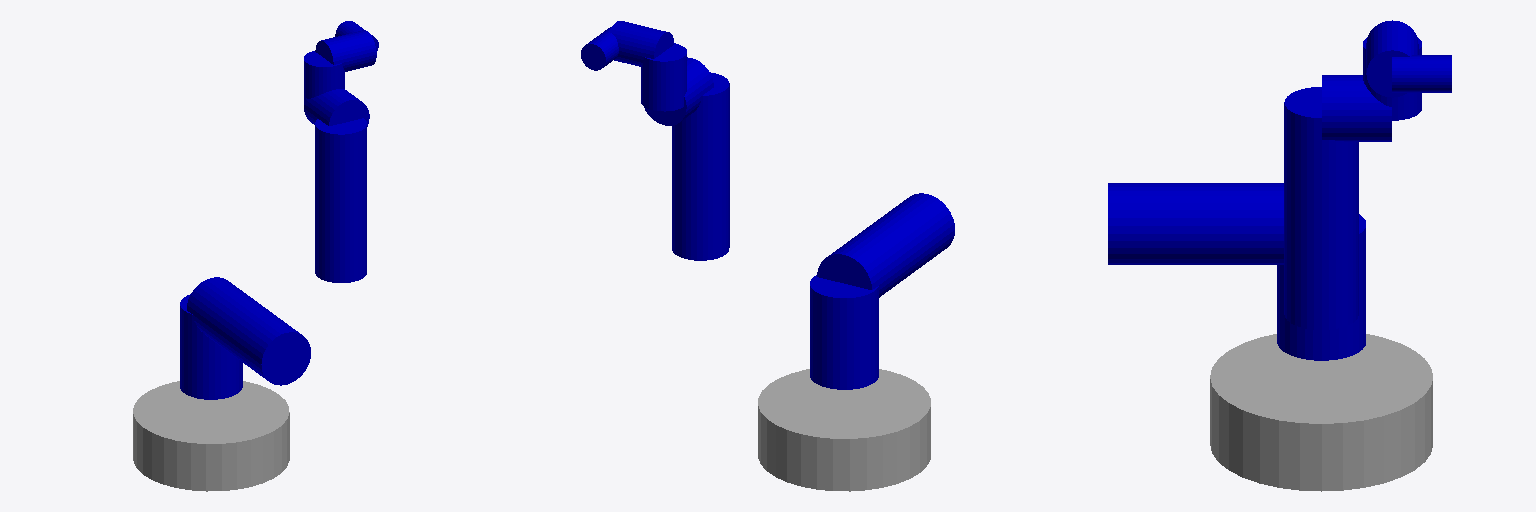
URDF robot description (left_arm_robot):
<?xml version="1.0"?>
<robot name="left_arm_robot">

  <!-- Material definitions -->
  <material name="blue">
    <color rgba="0 0 0.8 1"/>
  </material>
  <material name="gray">
    <color rgba="0.7 0.7 0.7 1"/>
  </material>

  <!-- Base Link -->
  <link name="left_base_link">
    <visual>
      <geometry>
        <cylinder length="0.1" radius="0.15"/>
      </geometry>
      <material name="gray"/>
    </visual>
    <collision>
      <geometry>
        <cylinder length="0.1" radius="0.15"/>
      </geometry>
    </collision>
    <inertial>
      <origin xyz="0 0 0" rpy="0 0 0"/>
      <mass value="5.0"/>
      <inertia ixx="0.1" ixy="0" ixz="0" iyy="0.1" iyz="0" izz="0.1"/>
    </inertial>
  </link>

  <!-- Joint 1 -->
  <joint name="left_joint1" type="revolute">
    <parent link="left_base_link"/>
    <child link="left_link1"/>
    <origin xyz="0 0 0.1017" rpy="0 0 0"/>
    <axis xyz="0 0 1"/>
    <limit lower="-2.96706" upper="2.96706" effort="180" velocity="4.0407"/>
  </joint>

  <link name="left_link1">
    <visual>
      <geometry>
        <cylinder length="0.1745" radius="0.06"/>
      </geometry>
      <material name="blue"/>
      <origin xyz="0 0 0.08725" rpy="0 0 0"/>
    </visual>
    <collision>
      <geometry>
        <cylinder length="0.1745" radius="0.06"/>
      </geometry>
      <origin xyz="0 0 0.08725" rpy="0 0 0"/>
    </collision>
    <inertial>
      <origin xyz="0 -0.002084 -0.030418" rpy="0 0 0"/>
      <mass value="4.0407"/>
      <inertia ixx="0.104651" ixy="0" ixz="0" iyy="0.104651" iyz="0" izz="0.104651"/>
    </inertial>
  </link>

  <!-- Joint 2 -->
  <joint name="left_joint2" type="revolute">
    <parent link="left_link1"/>
    <child link="left_link2"/>
    <origin xyz="0 0 0.1745" rpy="1.5708 0 0"/>
    <axis xyz="0 0 1"/>
    <limit lower="-2.0944" upper="2.0944" effort="180" velocity="2.77241"/>
  </joint>

  <link name="left_link2">
    <visual>
      <geometry>
        <cylinder length="0.287" radius="0.055"/>
      </geometry>
      <material name="blue"/>
      <origin xyz="0 0 0.1435" rpy="0 0 0"/>
    </visual>
    <collision>
      <geometry>
        <cylinder length="0.287" radius="0.055"/>
      </geometry>
      <origin xyz="0 0 0.1435" rpy="0 0 0"/>
    </collision>
    <inertial>
      <origin xyz="-0.008095 0.151407 -0.045915" rpy="0 0 0"/>
      <mass value="2.77241"/>
      <inertia ixx="0.027234" ixy="-0.002166" ixz="0.0024" iyy="0.036772" iyz="0.011008" izz="0.052656"/>
    </inertial>
  </link>

  <!-- Joint 3 -->
  <joint name="left_joint3" type="revolute">
    <parent link="left_link2"/>
    <child link="left_link3"/>
    <origin xyz="0.287 0 0" rpy="-1.5708 0 0"/>
    <axis xyz="0 0 1"/>
    <limit lower="-2.96706" upper="2.96706" effort="180" velocity="3.6913"/>
  </joint>

  <link name="left_link3">
    <visual>
      <geometry>
        <cylinder length="0.314" radius="0.05"/>
      </geometry>
      <material name="blue"/>
      <origin xyz="0 0 0.157" rpy="0 0 0"/>
    </visual>
    <collision>
      <geometry>
        <cylinder length="0.314" radius="0.05"/>
      </geometry>
      <origin xyz="0 0 0.157" rpy="0 0 0"/>
    </collision>
    <inertial>
      <origin xyz="0.007463 -0.009788 -0.208974" rpy="0 0 0"/>
      <mass value="3.6913"/>
      <inertia ixx="0" ixy="0" ixz="0" iyy="0" iyz="0" izz="0"/>
    </inertial>
  </link>

  <!-- Joint 4 -->
  <joint name="left_joint4" type="revolute">
    <parent link="left_link3"/>
    <child link="left_link4"/>
    <origin xyz="0.018 0 0.314" rpy="1.5708 0 3.14159"/>
    <axis xyz="0 0 1"/>
    <limit lower="-2.44346" upper="1.36136" effort="180" velocity="3.08149"/>
  </joint>

  <link name="left_link4">
    <visual>
      <geometry>
        <cylinder length="0.095" radius="0.045"/>
      </geometry>
      <material name="blue"/>
      <origin xyz="0 0 0.0475" rpy="0 0 0"/>
    </visual>
    <collision>
      <geometry>
        <cylinder length="0.095" radius="0.045"/>
      </geometry>
      <origin xyz="0 0 0.0475" rpy="0 0 0"/>
    </collision>
    <inertial>
      <origin xyz="0.025708 -0.185959 -0.006434" rpy="0 0 0"/>
      <mass value="3.08149"/>
      <inertia ixx="0" ixy="0" ixz="0" iyy="0" iyz="0" izz="0"/>
    </inertial>
  </link>

  <!-- Joint 5 -->
  <joint name="left_joint5" type="revolute">
    <parent link="left_link4"/>
    <child link="left_link5"/>
    <origin xyz="0 0 0.095" rpy="1.5708 0 3.14159"/>
    <axis xyz="0 0 1"/>
    <limit lower="-2.96706" upper="2.96706" effort="180" velocity="0.722775"/>
  </joint>

  <link name="left_link5">
    <visual>
      <geometry>
        <cylinder length="0.095" radius="0.04"/>
      </geometry>
      <material name="blue"/>
      <origin xyz="0 0 0.0475" rpy="0 0 0"/>
    </visual>
    <collision>
      <geometry>
        <cylinder length="0.095" radius="0.04"/>
      </geometry>
      <origin xyz="0 0 0.0475" rpy="0 0 0"/>
    </collision>
    <inertial>
      <origin xyz="0.002029 0.010335 -0.088594" rpy="0 0 0"/>
      <mass value="0.722775"/>
      <inertia ixx="0.001163" ixy="0.000035" ixz="0.000167" iyy="0.00114" iyz="-0.000232" izz="0.000073"/>
    </inertial>
  </link>

  <!-- Joint 6 -->
  <joint name="left_joint6" type="revolute">
    <parent link="left_link5"/>
    <child link="left_link6"/>
    <origin xyz="0 0 0.095" rpy="1.5708 0 1.5708"/>
    <axis xyz="0 0 1"/>
    <limit lower="-1.0472" upper="1.0472" effort="180" velocity="0.086246"/>
  </joint>

  <link name="left_link6">
    <visual>
      <geometry>
        <cylinder length="0.095" radius="0.035"/>
      </geometry>
      <material name="blue"/>
      <origin xyz="0 0 0.0475" rpy="0 0 0"/>
    </visual>
    <collision>
      <geometry>
        <cylinder length="0.095" radius="0.035"/>
      </geometry>
      <origin xyz="0 0 0.0475" rpy="0 0 0"/>
    </collision>
    <inertial>
      <origin xyz="0.040207 -0.009178 -0.027294" rpy="0 0 0"/>
      <mass value="0.086246"/>
      <inertia ixx="0" ixy="0" ixz="0" iyy="0" iyz="0" izz="0"/>
    </inertial>
  </link>

  <!-- Joint 7 -->
  <joint name="left_joint7" type="revolute">
    <parent link="left_link6"/>
    <child link="left_tool0"/>
    <origin xyz="0 0 0.095" rpy="1.5708 0 1.5708"/>
    <axis xyz="0 0 1"/>
    <limit lower="-1.5708" upper="1.5708" effort="180" velocity="0.605077"/>
  </joint>

  <!-- End Effector -->
  <link name="left_tool0">
    <visual>
      <geometry>
        <cylinder length="0.08" radius="0.025"/>
      </geometry>
      <material name="blue"/>
      <origin xyz="0 0 0.04" rpy="0 0 0"/>
    </visual>
    <collision>
      <geometry>
        <cylinder length="0.08" radius="0.025"/>
      </geometry>
      <origin xyz="0 0 0.04" rpy="0 0 0"/>
    </collision>
    <inertial>
      <origin xyz="0 0 0.04" rpy="0 0 0"/>
      <mass value="0.5"/>
      <inertia ixx="0.001" ixy="0" ixz="0" iyy="0.001" iyz="0" izz="0.001"/>
    </inertial>
  </link>

</robot>

--- What the picture shows (computed from the rendered views, not written in the file) ---
3 views of the same robot in one strip: view 1: azimuth 30°, elevation 25°; view 2: azimuth 150°, elevation 25°; view 3: azimuth 270°, elevation 25° (orthographic).
Robot: left_arm_robot — 8 links, 7 joints (7 revolute); root link left_base_link; default pose: every joint at zero.
Links seen in each view (by area): view 1: left_base_link, left_link3, left_link2, left_link1, left_link6, left_link4, left_link5; view 2: left_base_link, left_link3, left_link2, left_link1, left_link5, left_link6, left_link4, left_tool0; view 3: left_base_link, left_link3, left_link2, left_link4, left_link1, left_link6, left_tool0, left_link5.
Boxes of the visible links, x1=… form: left_base_link: x1=133, y1=381, x2=289, y2=491; left_link3: x1=315, y1=118, x2=366, y2=282; left_link2: x1=187, y1=277, x2=310, y2=385; left_link1: x1=180, y1=294, x2=242, y2=399; left_link6: x1=315, y1=30, x2=376, y2=71; left_link4: x1=304, y1=89, x2=369, y2=126; left_link5: x1=304, y1=51, x2=344, y2=104; left_base_link: x1=758, y1=369, x2=930, y2=491; left_link3: x1=672, y1=72, x2=729, y2=260; left_link2: x1=817, y1=193, x2=954, y2=297; left_link1: x1=810, y1=275, x2=878, y2=389; left_link5: x1=641, y1=43, x2=686, y2=111; left_link6: x1=610, y1=21, x2=673, y2=66; left_link4: x1=644, y1=57, x2=713, y2=125; left_tool0: x1=581, y1=27, x2=618, y2=70; left_base_link: x1=1210, y1=334, x2=1432, y2=491; left_link3: x1=1284, y1=87, x2=1358, y2=329; left_link2: x1=1108, y1=183, x2=1283, y2=264; left_link4: x1=1322, y1=75, x2=1391, y2=141; left_link1: x1=1277, y1=214, x2=1365, y2=360; left_link6: x1=1366, y1=20, x2=1418, y2=97; left_tool0: x1=1392, y1=55, x2=1451, y2=92; left_link5: x1=1363, y1=37, x2=1421, y2=120.
Size in the robot's own frame: 0.575 by 0.462 by 0.7702 metres.
Geometry: primitives only (box / cylinder / sphere), no mesh files.
